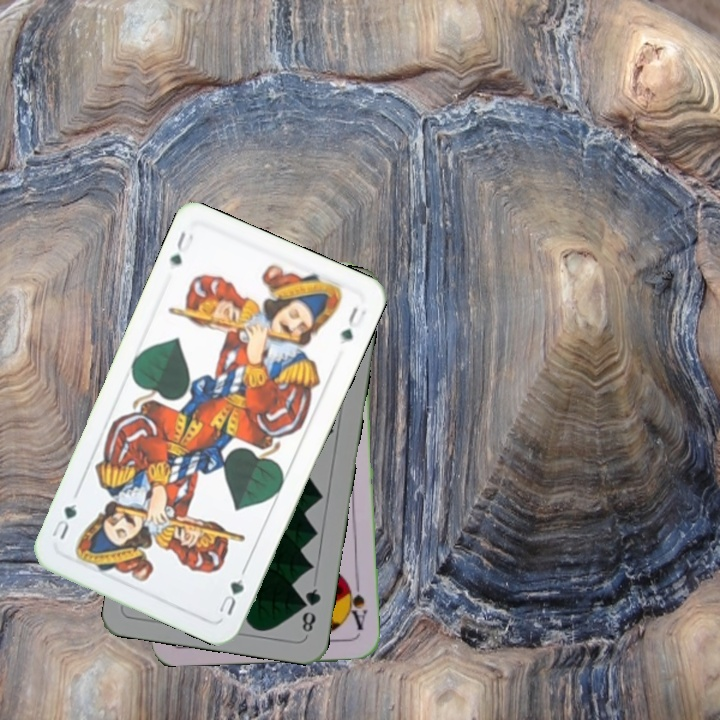G8: (297, 584, 324, 635)
GU: (215, 575, 247, 618), (165, 227, 196, 268)
SA: (343, 576, 370, 632)
